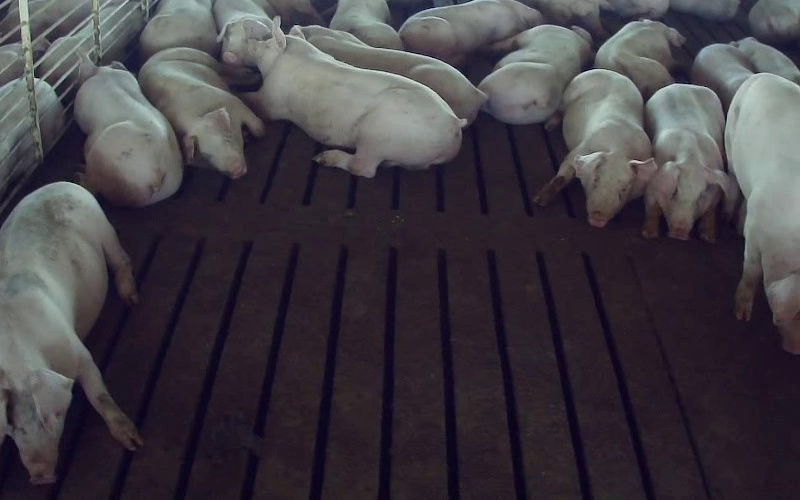pig: (0, 182, 141, 483), (244, 17, 465, 176), (725, 73, 799, 353), (290, 25, 486, 123), (534, 69, 656, 226), (74, 55, 182, 206), (139, 47, 263, 177), (642, 84, 738, 241), (479, 24, 590, 123), (399, 0, 542, 64), (594, 19, 684, 100), (140, 0, 218, 59), (691, 44, 754, 113), (329, 0, 402, 49), (731, 37, 799, 84)
